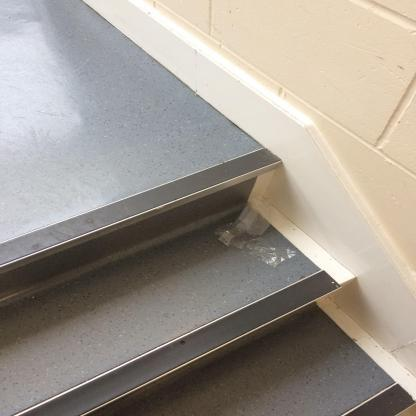plastik: (218, 187, 296, 269)
